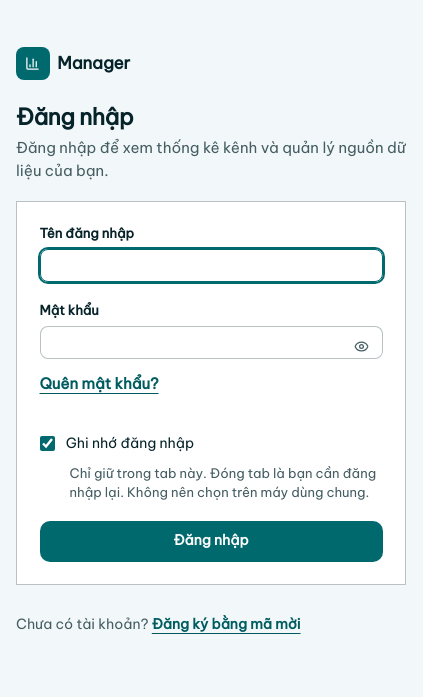
Test: LoginPage — lỗi nói rõ cách xử lý, không lộ tài khoản có tồn tại hay không › mất mạng: nói chưa kết nối được, không nhầm thành sai mật khẩu
Step 1. Type "alice" into the field labelled "Tên đăng nhập" → (211, 266), box [40,249,382,282]
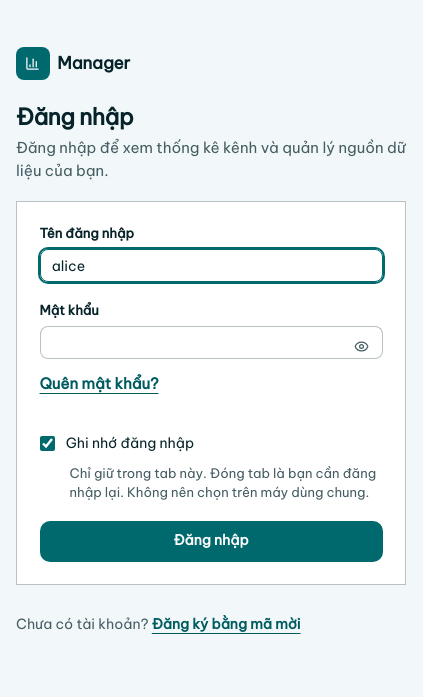
Step 2. Type "wrong-password" into the password field labelled "Mật khẩu" → (211, 342), box [40,326,382,359]
Then press Enter
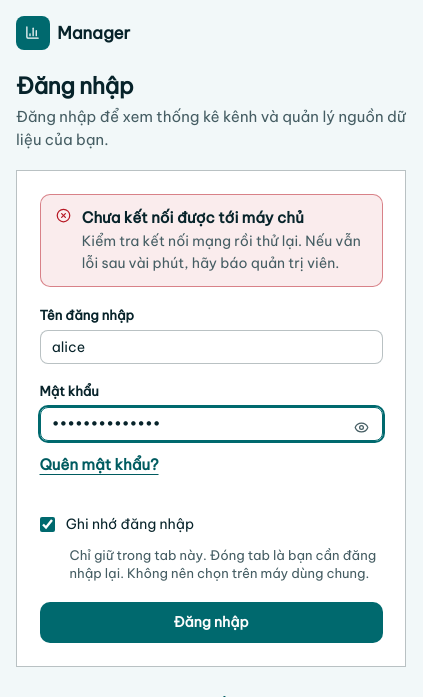
Expected: the message does not show "chưa đúng", [40,194,382,287]
Result: the message shows "Chưa kết nối được tới máy chủ" at [82,208,304,227]
